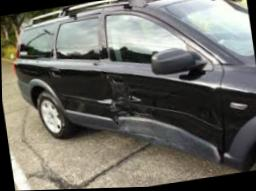Door: (105, 80, 151, 125)
